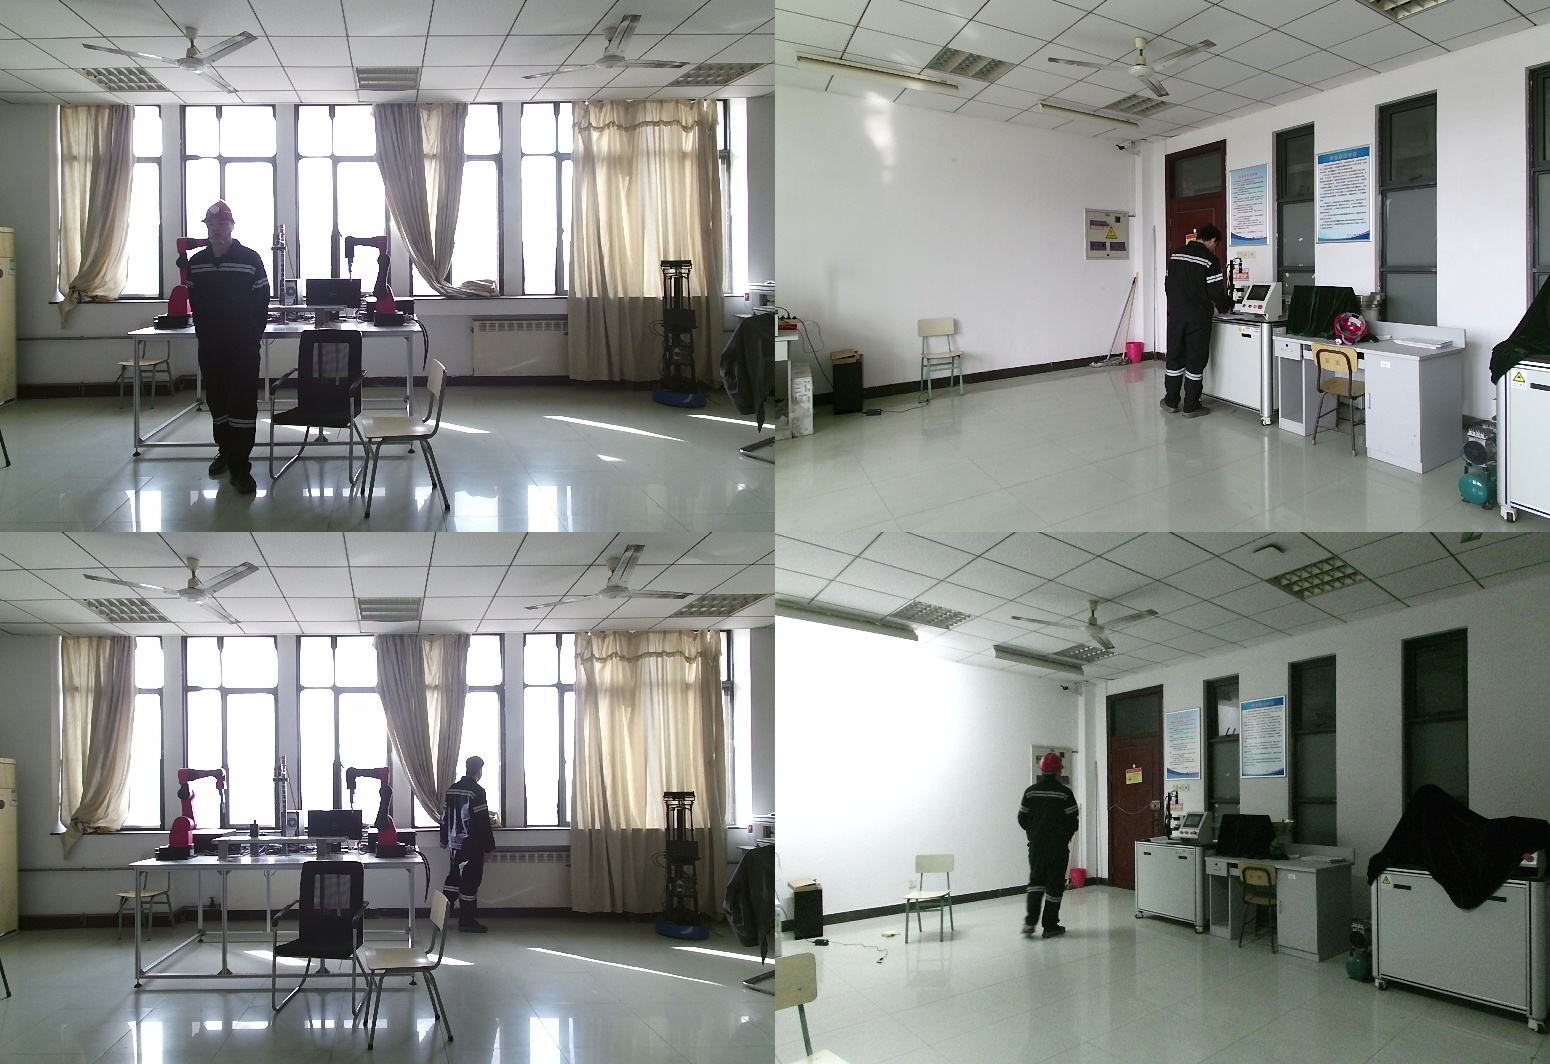person: (181, 202, 270, 486), (1155, 223, 1237, 426), (1008, 753, 1081, 947), (442, 757, 500, 944)
